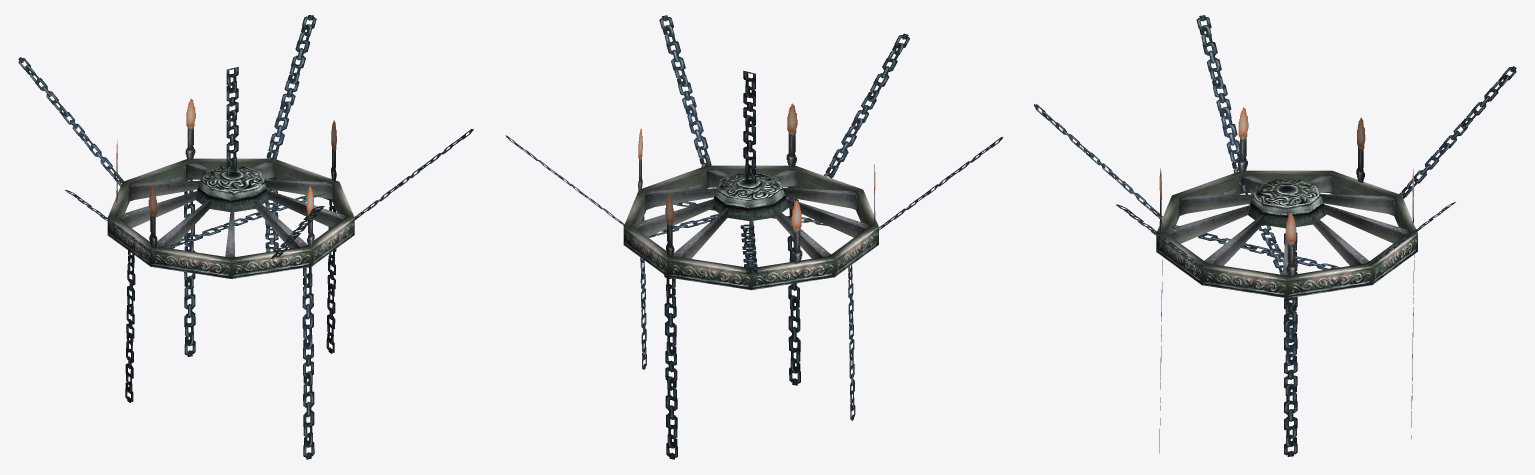
3 views of the same model, side by side, from view 1: azimuth 30°, elevation 25°; view 2: azimuth 150°, elevation 25°; view 3: azimuth 270°, elevation 25° (orthographic). The views are drawn at different scales.
Visible parts, largest first — view 1: Object08; view 2: Object08; view 3: Object08.
Part boxes in pixels (left/top/right/bottom): Object08: left=18, top=15, right=473, bottom=459; Object08: left=505, top=15, right=1002, bottom=459; Object08: left=1034, top=15, right=1516, bottom=456.
Bounding box in the file's own units: 0.0594 × 0.0532 × 0.0631.
Materials: 1 (1 with a texture image).
